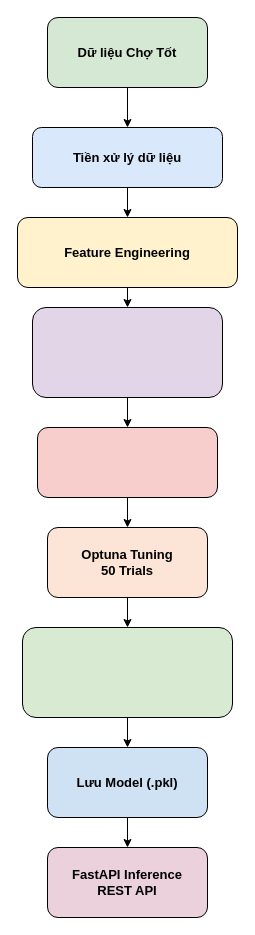
Some shapes in this 255 by 935 pixel diagram are drawn without their labels. Here are the shapes that lost their labels. From the top down, the centre of each, then its label:
At point (127, 352): "Target Encoder • model • color • Cross-Fit 5 Fold".
At point (127, 462): "Huấn luyện XGBoost / LightGBM".
At point (127, 672): "Đánh giá mô hình CV R² = 0.830 Test R² = 0.806 MAPE = 29.4%".
